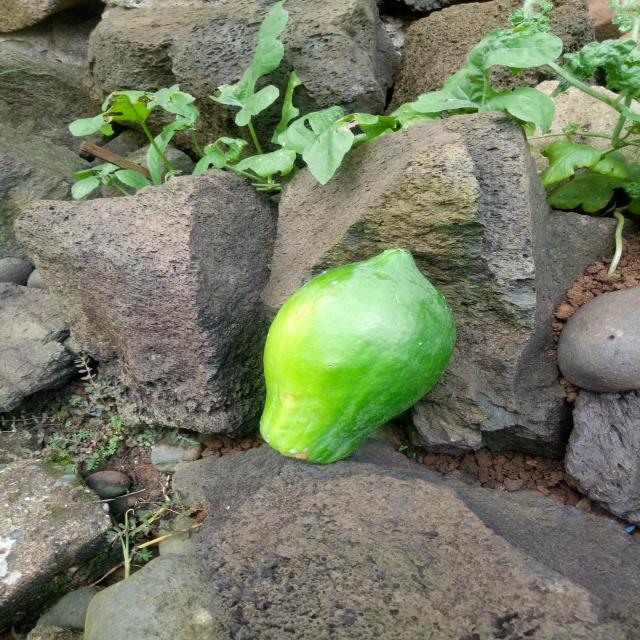Pepaya unrippen: (237, 242, 463, 460)
